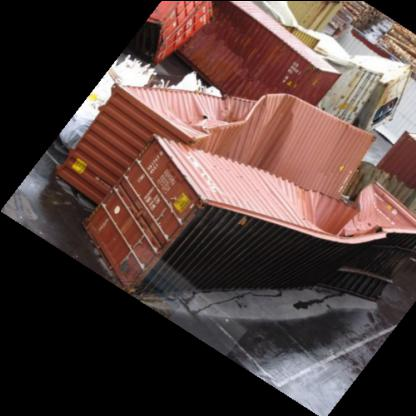Damage: (132, 89, 378, 154), (286, 182, 412, 272)
